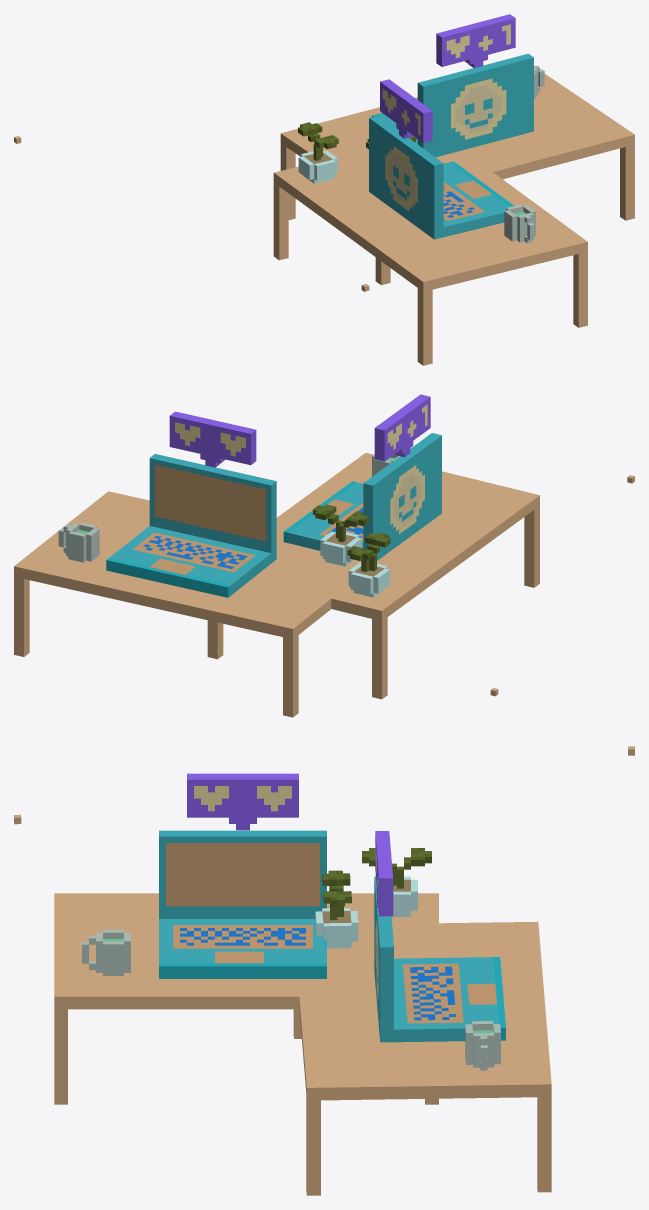
The model's file is Voxel-Dog.glb.
The picture shows the model from 3 angles, top to bottom: view 1: azimuth 30°, elevation 25°; view 2: azimuth 150°, elevation 25°; view 3: azimuth 270°, elevation 25°; orthographic projection. The views are drawn at different scales.
Parts seen in each view (by area): view 1: Untitled.001, Untitled; view 2: Untitled, Untitled.001; view 3: Untitled.001, Untitled.
Boxes of the visible parts, bbox=[...] form: Untitled.001: bbox=[14, 79, 587, 365]; Untitled: bbox=[280, 14, 634, 291]; Untitled: bbox=[14, 411, 634, 717]; Untitled.001: bbox=[207, 394, 539, 699]; Untitled.001: bbox=[54, 746, 634, 1104]; Untitled: bbox=[14, 814, 551, 1195].
Size of the model in its own units: 10.48 by 4.1 by 8.87.
Materials: 2 (2 with a texture image).
